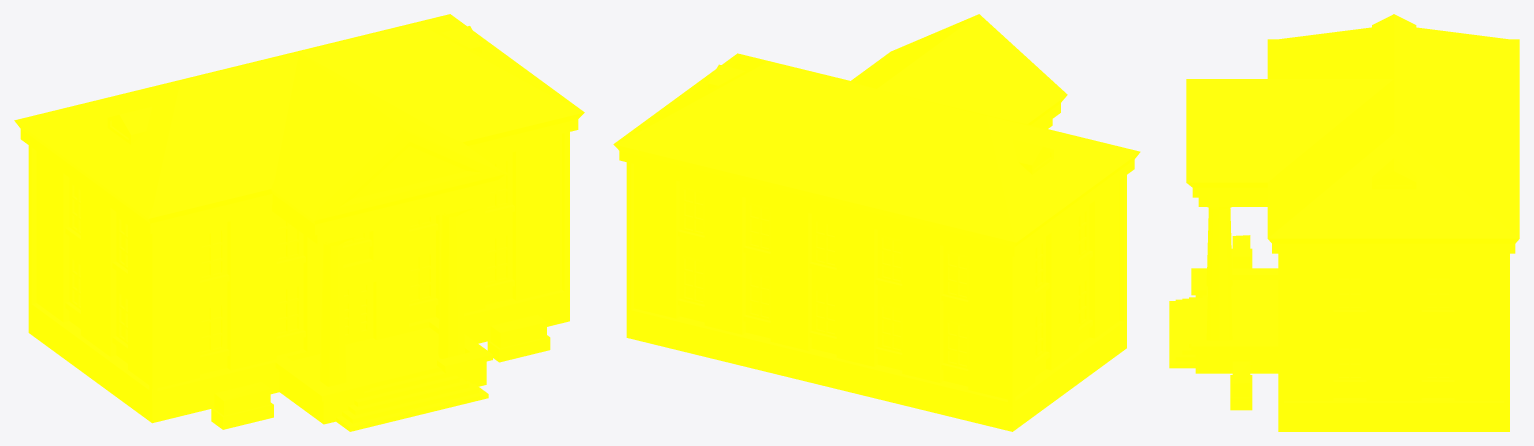
Rendered from building-museum.glb.
The picture shows the model from 3 angles, left to right: view 1: azimuth 30°, elevation 25°; view 2: azimuth 150°, elevation 25°; view 3: azimuth 270°, elevation 25°; orthographic projection. The views are drawn at different scales.
Parts seen in each view (by area): view 1: building-museum; view 2: building-museum; view 3: building-museum.
Boxes of the visible parts, bbox=[...] form: building-museum: bbox=[14, 14, 584, 431]; building-museum: bbox=[613, 14, 1140, 431]; building-museum: bbox=[1169, 14, 1519, 431].
Size of the model in its own units: 21.41 by 12.89 by 15.9.
Materials: 1 (1 with a texture image).
